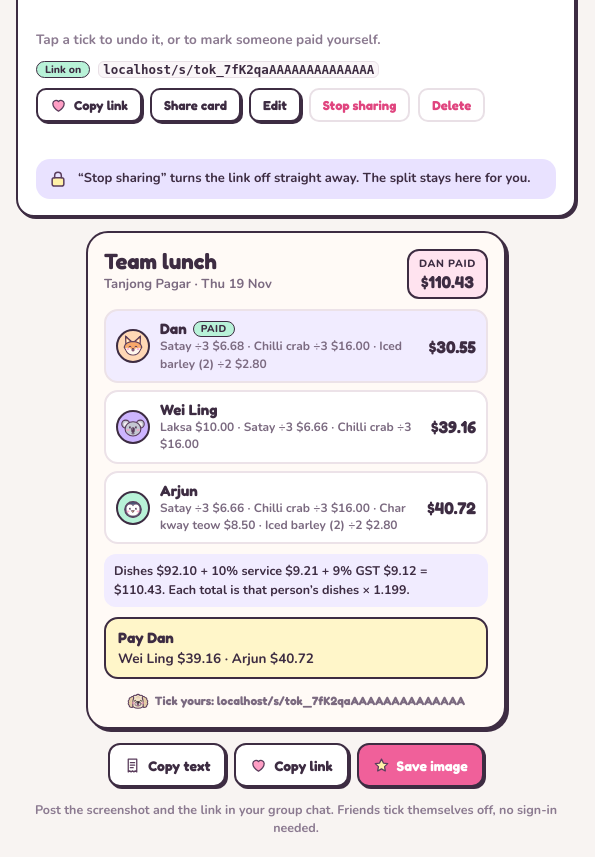
Scenario: the share card › copies the plain text and shows it, with how it looks in a chat
The width and height of the screenshot is (595, 857).
(page scrolled)
Click the button "Copy text". click: (167, 765)
box: [108,743,226,787]
(page scrolled)
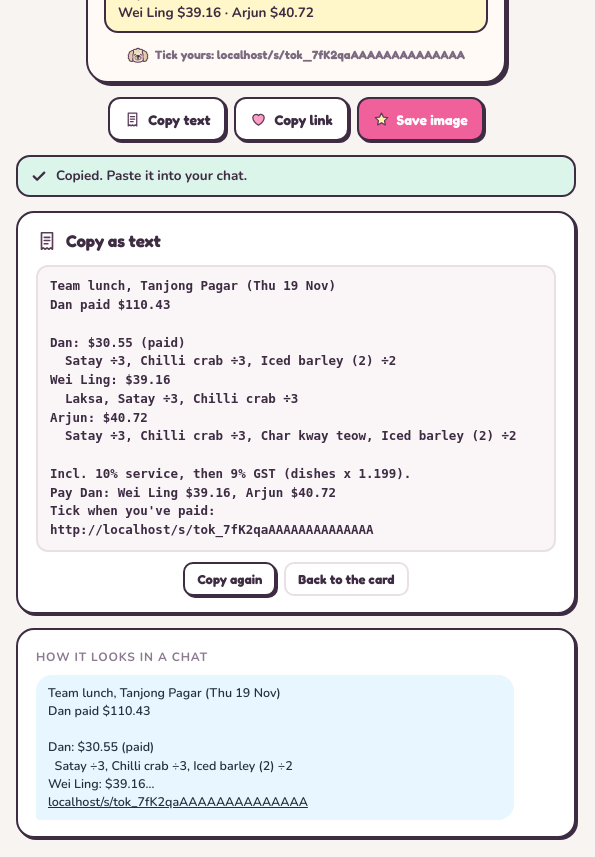
Result: the message reads "Copied. Paste it into your chat." at [56,166,247,185]
Result: the element "How it looks in a chat" shows "Dan paid $110.43" at [48,684,293,792]
Click the button "Back to the card". click: (346, 579)
box: [284,562,409,596]
(page scrolled)
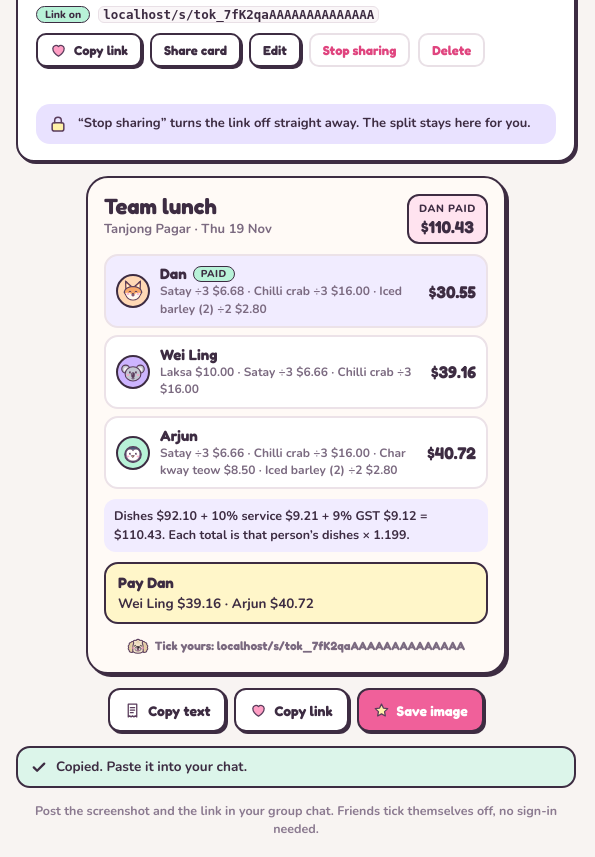
Result: the heading "Copy as text" is gone
